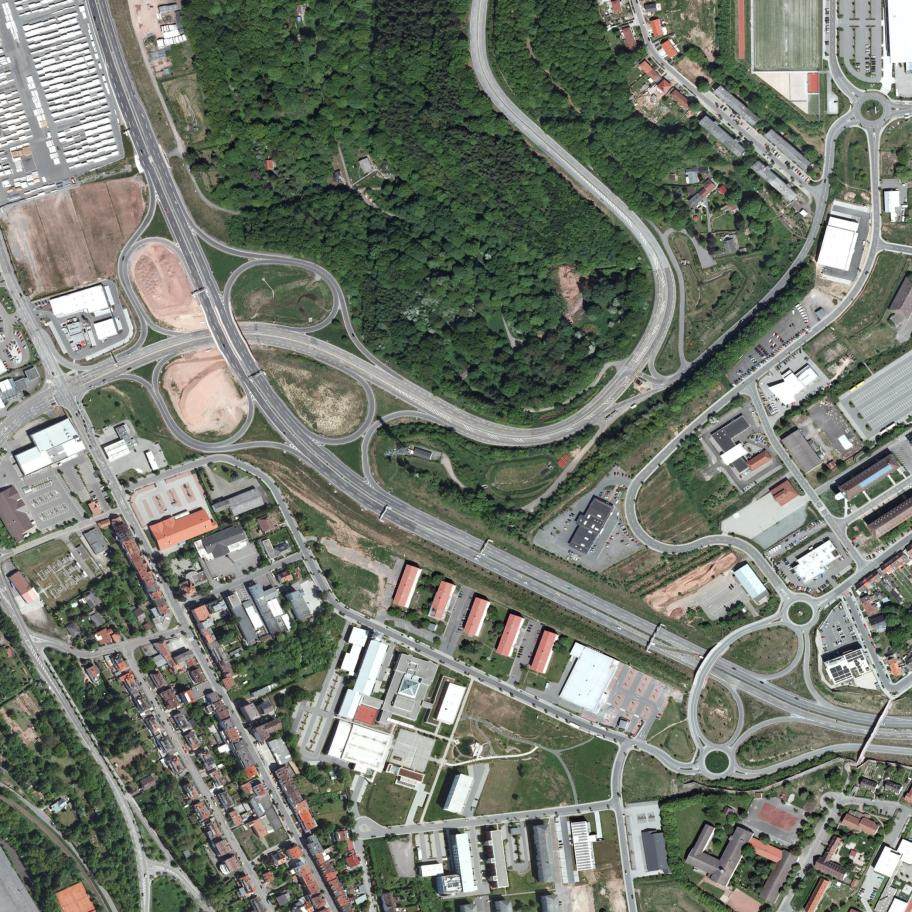small-vehicle: (179, 869, 185, 875), (797, 305, 803, 311), (798, 308, 805, 313), (730, 583, 735, 589), (796, 576, 802, 581), (885, 541, 890, 547), (893, 537, 898, 543), (17, 333, 22, 339), (213, 801, 218, 807), (209, 664, 214, 670), (795, 303, 801, 308), (807, 588, 812, 593), (781, 573, 786, 578), (782, 557, 787, 562), (783, 559, 788, 564), (785, 561, 790, 566), (786, 563, 791, 568), (790, 568, 795, 573), (817, 587, 822, 592), (906, 528, 911, 533), (748, 484, 753, 489), (753, 480, 758, 485), (875, 550, 880, 555), (837, 557, 842, 562), (792, 541, 797, 546), (796, 531, 801, 536), (815, 520, 820, 525), (818, 519, 823, 524), (166, 641, 171, 646), (357, 857, 362, 862), (213, 673, 218, 678), (160, 707, 165, 712), (801, 174, 806, 179), (805, 178, 810, 183), (746, 127, 751, 132), (720, 104, 725, 109), (851, 356, 856, 361), (804, 396, 809, 401), (810, 391, 815, 396), (818, 386, 823, 391), (843, 355, 848, 360), (776, 366, 781, 371), (785, 359, 790, 364), (803, 356, 808, 361), (762, 359, 767, 364), (766, 356, 771, 361), (791, 323, 796, 328), (797, 331, 802, 336), (808, 328, 813, 333), (786, 340, 791, 345), (755, 348, 760, 353), (757, 344, 762, 349), (759, 345, 764, 350), (463, 614, 469, 618), (462, 616, 468, 620), (517, 653, 523, 657), (534, 640, 540, 644), (794, 697, 800, 701), (868, 554, 872, 560), (820, 539, 826, 543), (775, 546, 779, 552), (88, 385, 94, 389), (154, 441, 160, 445), (89, 491, 95, 495), (52, 372, 56, 378), (99, 486, 105, 490), (94, 501, 100, 505), (126, 367, 132, 371), (231, 709, 235, 715), (616, 626, 622, 630), (216, 677, 220, 683), (139, 669, 143, 675), (143, 677, 147, 683), (148, 685, 152, 691), (171, 726, 175, 732), (824, 621, 830, 625), (803, 316, 809, 320), (800, 311, 806, 315), (862, 240, 866, 246), (527, 656, 534, 659), (774, 566, 779, 570), (837, 573, 842, 577), (806, 587, 810, 592), (803, 587, 807, 592), (789, 583, 793, 588), (783, 575, 787, 580), (773, 565, 778, 569), (820, 586, 824, 591), (776, 562, 781, 566), (787, 565, 792, 569), (821, 585, 826, 589), (516, 655, 521, 659), (469, 596, 474, 600), (526, 629, 531, 633), (823, 583, 827, 588), (800, 877, 804, 882), (732, 667, 737, 671), (728, 585, 732, 590), (827, 563, 831, 568), (739, 474, 743, 479), (880, 548, 885, 552), (888, 541, 892, 546), (891, 539, 895, 544), (900, 532, 904, 537), (744, 487, 748, 492), (746, 485, 750, 490), (751, 482, 755, 487), (741, 473, 745, 478), (825, 565, 829, 570), (747, 468, 752, 472), (758, 449, 763, 453), (746, 453, 751, 457), (758, 435, 762, 440), (760, 436, 764, 441), (762, 439, 766, 444), (698, 437, 703, 441), (751, 410, 756, 414), (877, 549, 881, 554), (840, 556, 844, 561), (787, 545, 791, 550), (790, 542, 794, 547), (801, 536, 805, 541), (804, 535, 809, 539), (768, 550, 772, 555), (813, 521, 817, 526), (820, 518, 824, 523), (855, 544, 860, 548), (466, 607, 471, 611), (133, 448, 137, 453), (102, 378, 107, 382), (75, 413, 79, 418), (78, 410, 82, 415), (82, 419, 86, 424), (85, 429, 89, 434), (89, 445, 93, 450), (102, 489, 107, 493), (93, 499, 98, 503), (105, 495, 110, 499), (19, 293, 23, 298), (62, 323, 67, 327), (23, 344, 27, 349), (9, 356, 14, 360), (10, 358, 15, 362), (209, 804, 213, 809), (211, 809, 215, 814), (218, 821, 222, 826), (224, 819, 228, 824), (211, 797, 215, 802), (235, 852, 239, 857), (238, 856, 242, 861), (260, 885, 264, 890), (360, 866, 364, 871), (656, 716, 661, 720), (476, 554, 481, 558), (53, 694, 57, 699), (197, 641, 201, 646), (206, 658, 210, 663), (195, 686, 199, 691), (155, 697, 159, 702), (150, 700, 154, 705), (153, 705, 157, 710), (158, 714, 162, 719), (162, 721, 166, 726), (167, 719, 171, 724), (170, 737, 174, 742), (184, 750, 188, 755), (132, 820, 136, 825), (799, 185, 804, 189), (798, 172, 803, 176), (796, 170, 801, 174), (798, 180, 803, 184), (779, 169, 784, 173), (795, 168, 799, 173), (791, 166, 795, 171), (785, 160, 789, 165), (850, 355, 854, 360), (774, 152, 779, 156), (772, 150, 776, 155), (730, 126, 735, 130), (732, 115, 737, 119), (723, 107, 728, 111), (767, 373, 771, 378), (821, 386, 825, 391), (772, 400, 777, 404), (806, 394, 810, 399), (808, 393, 813, 397), (813, 390, 817, 395), (826, 383, 831, 387), (783, 361, 787, 366), (789, 356, 794, 360), (792, 355, 796, 360), (806, 357, 810, 362), (842, 357, 846, 362), (655, 43, 660, 47), (837, 628, 842, 632), (842, 615, 847, 619), (823, 624, 828, 628), (833, 642, 837, 647), (837, 640, 841, 645), (840, 633, 845, 637), (861, 638, 865, 643), (868, 634, 872, 639), (887, 647, 891, 652), (885, 674, 889, 679), (877, 673, 881, 678), (873, 646, 877, 651), (51, 820, 55, 825), (818, 607, 822, 612), (863, 624, 867, 629), (859, 614, 863, 619), (853, 601, 857, 606), (759, 381, 764, 385), (619, 484, 624, 488), (732, 383, 737, 387), (736, 372, 741, 376), (738, 370, 743, 374), (742, 375, 747, 379), (744, 373, 749, 377), (740, 376, 745, 380), (736, 379, 740, 384), (748, 370, 753, 374), (754, 365, 759, 369), (756, 363, 761, 367), (758, 362, 763, 366), (752, 359, 757, 363), (760, 361, 765, 365), (764, 358, 769, 362), (765, 352, 769, 357), (605, 544, 610, 548), (608, 537, 613, 541), (610, 535, 615, 539), (622, 529, 627, 533), (618, 522, 623, 526), (553, 527, 558, 531), (565, 521, 570, 525), (615, 500, 619, 505), (760, 354, 765, 358), (789, 324, 793, 329), (804, 327, 809, 331), (830, 327, 835, 331), (758, 352, 763, 356), (771, 410, 775, 415), (792, 336, 797, 340), (788, 339, 793, 343), (757, 350, 762, 354), (754, 347, 759, 351), (760, 347, 764, 352), (762, 349, 766, 354), (773, 351, 778, 355), (777, 348, 782, 352), (770, 345, 774, 350), (772, 342, 776, 347), (779, 346, 784, 350), (772, 332, 776, 337), (784, 342, 789, 346), (459, 624, 465, 627), (778, 544, 781, 550), (171, 502, 177, 505), (163, 510, 169, 513), (371, 835, 377, 838), (170, 634, 176, 637), (791, 584, 795, 588), (789, 567, 793, 571), (792, 570, 796, 574), (741, 489, 745, 493), (744, 471, 748, 475), (746, 470, 750, 474), (846, 548, 850, 552), (823, 538, 827, 542), (785, 547, 789, 551), (789, 544, 793, 548), (794, 540, 798, 544), (799, 538, 803, 542), (785, 538, 789, 542), (793, 534, 797, 538), (127, 353, 131, 357), (88, 435, 92, 439), (20, 336, 24, 340), (83, 329, 87, 333), (17, 331, 21, 335), (21, 339, 25, 343), (9, 347, 13, 351), (240, 861, 244, 865), (286, 826, 290, 830), (37, 654, 41, 658), (372, 899, 376, 903), (204, 796, 208, 800), (50, 690, 54, 694), (140, 682, 144, 686), (157, 702, 161, 706), (182, 746, 186, 750), (731, 418, 735, 422), (524, 581, 528, 585), (777, 155, 781, 159), (853, 358, 857, 362), (799, 201, 803, 205), (767, 158, 771, 162), (763, 154, 767, 158), (771, 148, 775, 152), (727, 123, 731, 127), (730, 114, 734, 118), (737, 115, 741, 119), (740, 122, 744, 126), (845, 354, 849, 358), (817, 388, 821, 392), (778, 364, 782, 368), (787, 358, 791, 362), (793, 353, 797, 357), (717, 114, 721, 118), (850, 630, 854, 634), (762, 355, 766, 359), (606, 541, 610, 545), (571, 512, 575, 516), (800, 330, 804, 334), (865, 271, 869, 275), (769, 408, 773, 412), (764, 351, 768, 355), (775, 350, 779, 354), (772, 347, 776, 351), (768, 339, 772, 343), (773, 344, 777, 348), (779, 338, 783, 342), (801, 586, 804, 591), (788, 581, 791, 586), (780, 571, 783, 576), (772, 561, 775, 566), (766, 553, 769, 558), (457, 595, 462, 598), (459, 626, 464, 629), (529, 624, 534, 627), (527, 627, 532, 630), (519, 646, 524, 649), (518, 648, 523, 651), (518, 650, 523, 653), (530, 653, 535, 656), (535, 638, 540, 641), (537, 633, 542, 636), (759, 681, 764, 684), (773, 548, 776, 553), (458, 593, 463, 596), (51, 403, 56, 406), (84, 424, 87, 429), (95, 435, 100, 438), (92, 497, 97, 500), (188, 566, 193, 569), (70, 647, 75, 650), (459, 591, 464, 594), (94, 16, 97, 21), (141, 149, 144, 154), (165, 209, 168, 214), (122, 256, 125, 261), (69, 341, 74, 344), (15, 344, 18, 349), (18, 350, 21, 355), (95, 649, 100, 652), (369, 879, 372, 884), (365, 860, 368, 865), (374, 904, 377, 909), (144, 873, 147, 878), (824, 179, 827, 184), (775, 398, 778, 403), (799, 349, 802, 354), (648, 37, 651, 42), (840, 636, 845, 639), (838, 630, 843, 633), (836, 626, 841, 629), (851, 634, 856, 637), (859, 631, 862, 636), (882, 666, 885, 671), (845, 600, 848, 605), (629, 21, 634, 24), (473, 557, 478, 560), (738, 378, 743, 381), (605, 494, 610, 497), (753, 361, 758, 364), (750, 357, 755, 360), (748, 355, 753, 358), (599, 492, 604, 495), (626, 534, 631, 537), (589, 550, 594, 553), (619, 540, 624, 543), (634, 541, 639, 544), (630, 539, 635, 542), (628, 537, 633, 540), (624, 532, 629, 535), (567, 519, 572, 522), (569, 515, 574, 518), (598, 494, 603, 497), (604, 496, 609, 499), (768, 355, 773, 358), (802, 314, 807, 317), (806, 326, 811, 329), (792, 310, 795, 315), (781, 346, 786, 349), (782, 344, 787, 347), (775, 333, 778, 338), (799, 587, 802, 591), (768, 556, 771, 560), (462, 619, 466, 622), (538, 630, 542, 633), (793, 572, 796, 576), (751, 435, 754, 439), (753, 435, 756, 439), (756, 435, 759, 439), (866, 556, 869, 560), (771, 549, 774, 553), (567, 587, 571, 590), (92, 495, 96, 498), (149, 560, 152, 564), (152, 566, 155, 570), (3, 361, 7, 364), (97, 29, 100, 33), (17, 348, 20, 352), (12, 345, 15, 349), (7, 353, 11, 356), (14, 356, 18, 359), (558, 840, 562, 843), (206, 800, 209, 804), (771, 403, 775, 406), (773, 407, 777, 410), (796, 352, 799, 356), (849, 609, 852, 613), (835, 641, 838, 645), (840, 640, 843, 644), (865, 49, 871, 51), (872, 70, 876, 73), (857, 609, 860, 613), (771, 396, 774, 400), (614, 472, 617, 476), (593, 545, 597, 548), (564, 528, 568, 531), (802, 329, 806, 332), (762, 401, 768, 403), (767, 404, 770, 408), (769, 406, 772, 410), (791, 338, 795, 341), (776, 335, 779, 339), (778, 337, 781, 341), (625, 870, 627, 875), (631, 894, 633, 899), (14, 330, 16, 335), (15, 359, 20, 361), (89, 651, 94, 653), (558, 847, 563, 849), (559, 844, 564, 846), (774, 410, 779, 412), (481, 872, 486, 874), (825, 41, 830, 43), (825, 28, 830, 30), (825, 20, 830, 22), (825, 17, 830, 19), (825, 13, 830, 15), (866, 45, 871, 47), (865, 51, 870, 53), (865, 58, 870, 60), (871, 61, 876, 63), (871, 66, 876, 68), (866, 71, 871, 73), (866, 68, 871, 70), (866, 66, 871, 68), (622, 473, 624, 478), (615, 494, 620, 496), (625, 544, 630, 546), (615, 533, 620, 535), (614, 497, 619, 499), (620, 526, 625, 528), (804, 322, 809, 324), (761, 398, 766, 400), (760, 396, 765, 398), (759, 393, 764, 395), (797, 586, 799, 590), (14, 341, 16, 345), (5, 351, 9, 353), (8, 355, 12, 357), (363, 851, 365, 855), (364, 856, 366, 860), (632, 744, 636, 746), (142, 893, 144, 897), (772, 406, 776, 408), (821, 637, 825, 639), (823, 645, 827, 647), (643, 22, 645, 26), (856, 63, 860, 65), (856, 66, 860, 68), (825, 26, 829, 28), (871, 56, 875, 58), (871, 58, 875, 60), (871, 68, 875, 70), (866, 64, 870, 66), (607, 491, 611, 493), (617, 472, 619, 476), (625, 474, 627, 478), (628, 475, 630, 479), (768, 397, 770, 401), (591, 548, 595, 550), (804, 320, 808, 322), (771, 341, 773, 345), (782, 340, 784, 344), (617, 512, 619, 515), (825, 31, 830, 32), (871, 64, 876, 65), (771, 558, 772, 562)
